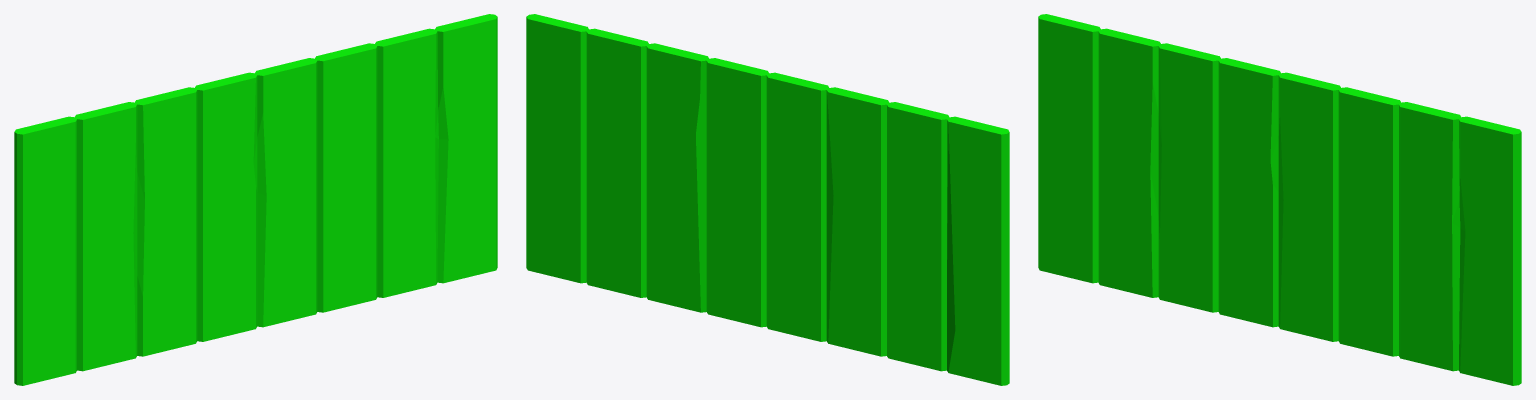
The model's file is SM_Wall_Deco_Wood_2x1m.fbx.
3 views of the same model, side by side, from view 1: azimuth 30°, elevation 25°; view 2: azimuth 150°, elevation 25°; view 3: azimuth 330°, elevation 25° (orthographic).
Visible parts, largest first — view 1: wall-deco-wood-2x1m; view 2: wall-deco-wood-2x1m; view 3: wall-deco-wood-2x1m.
Part boxes in pixels (x1,y1,x2,y2): wall-deco-wood-2x1m: (14,14,497,385); wall-deco-wood-2x1m: (526,14,1009,385); wall-deco-wood-2x1m: (1038,14,1521,385).
Size of the model in its own units: 2 by 1 by 0.05.
